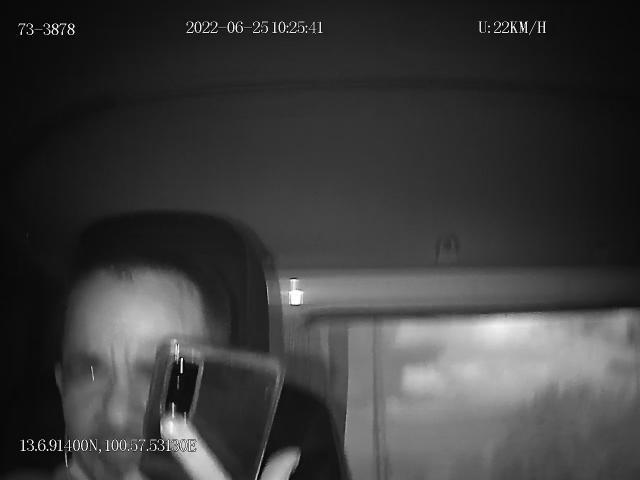PhoneUse: (140, 340, 286, 480)
